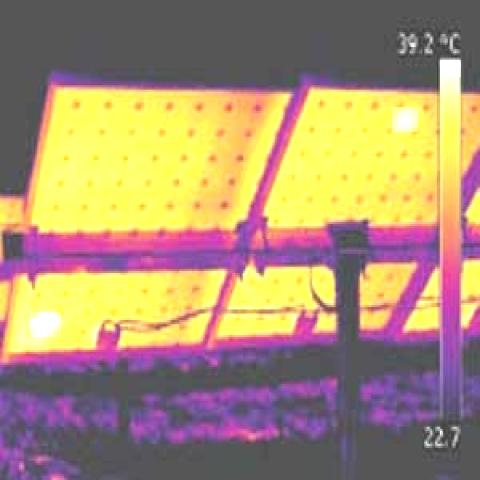fault: (30, 312, 61, 337), (392, 107, 418, 132), (440, 60, 461, 77)
